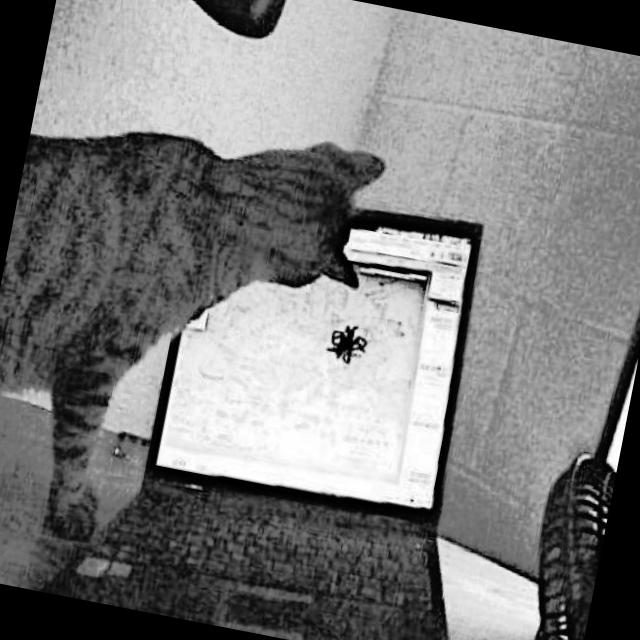Cat: (0, 77, 391, 590)
